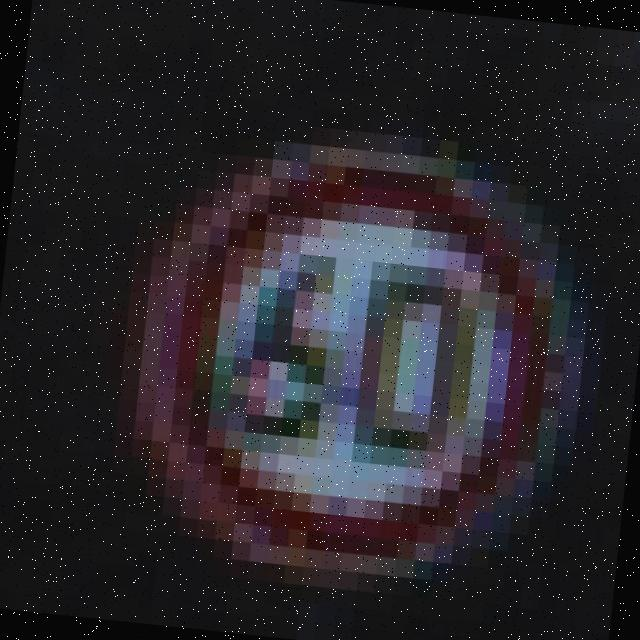Ograniczenie predkosci do 60: (54, 73, 640, 640)
